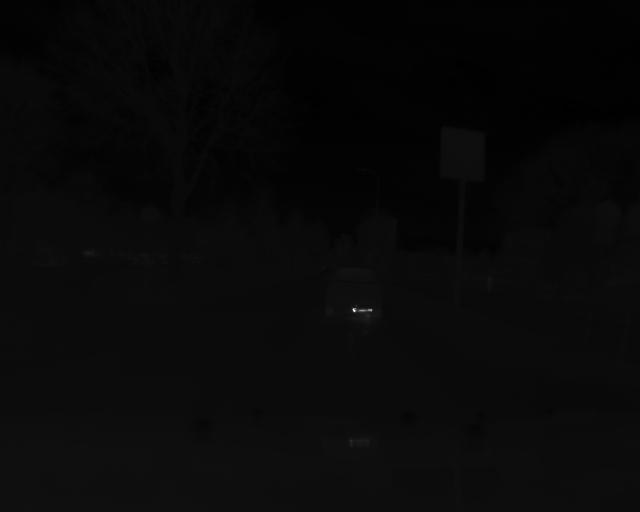car: (321, 261, 389, 320)
